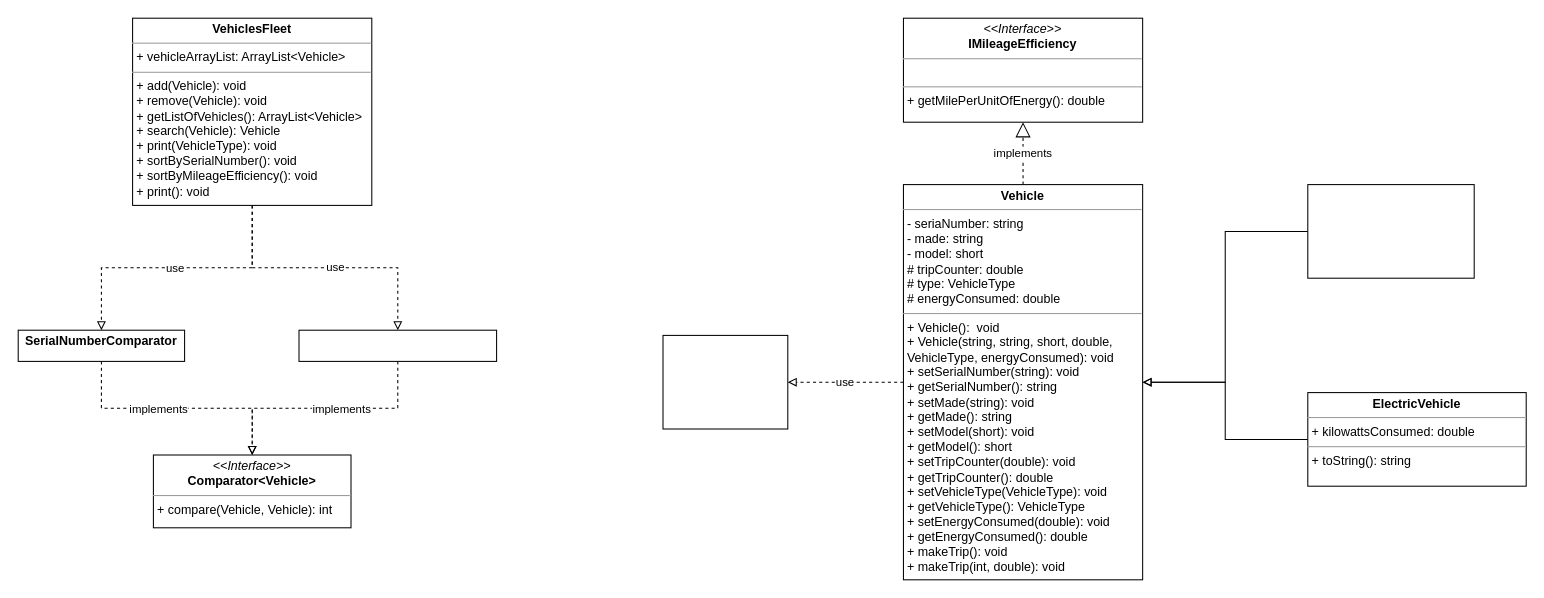
This 1544x598 diagram has some shape labels left out. The centre of each missing label's shape, as x and y in pixels:
<<enumeration>> VehicleType + GasVehicle + ElectricVehicle + Undefined: (725,381)
Gas Vehicle + fuelConsumed: double + toString(): string: (1390,231)
MileageEfficiency Comparator: (397,345)
